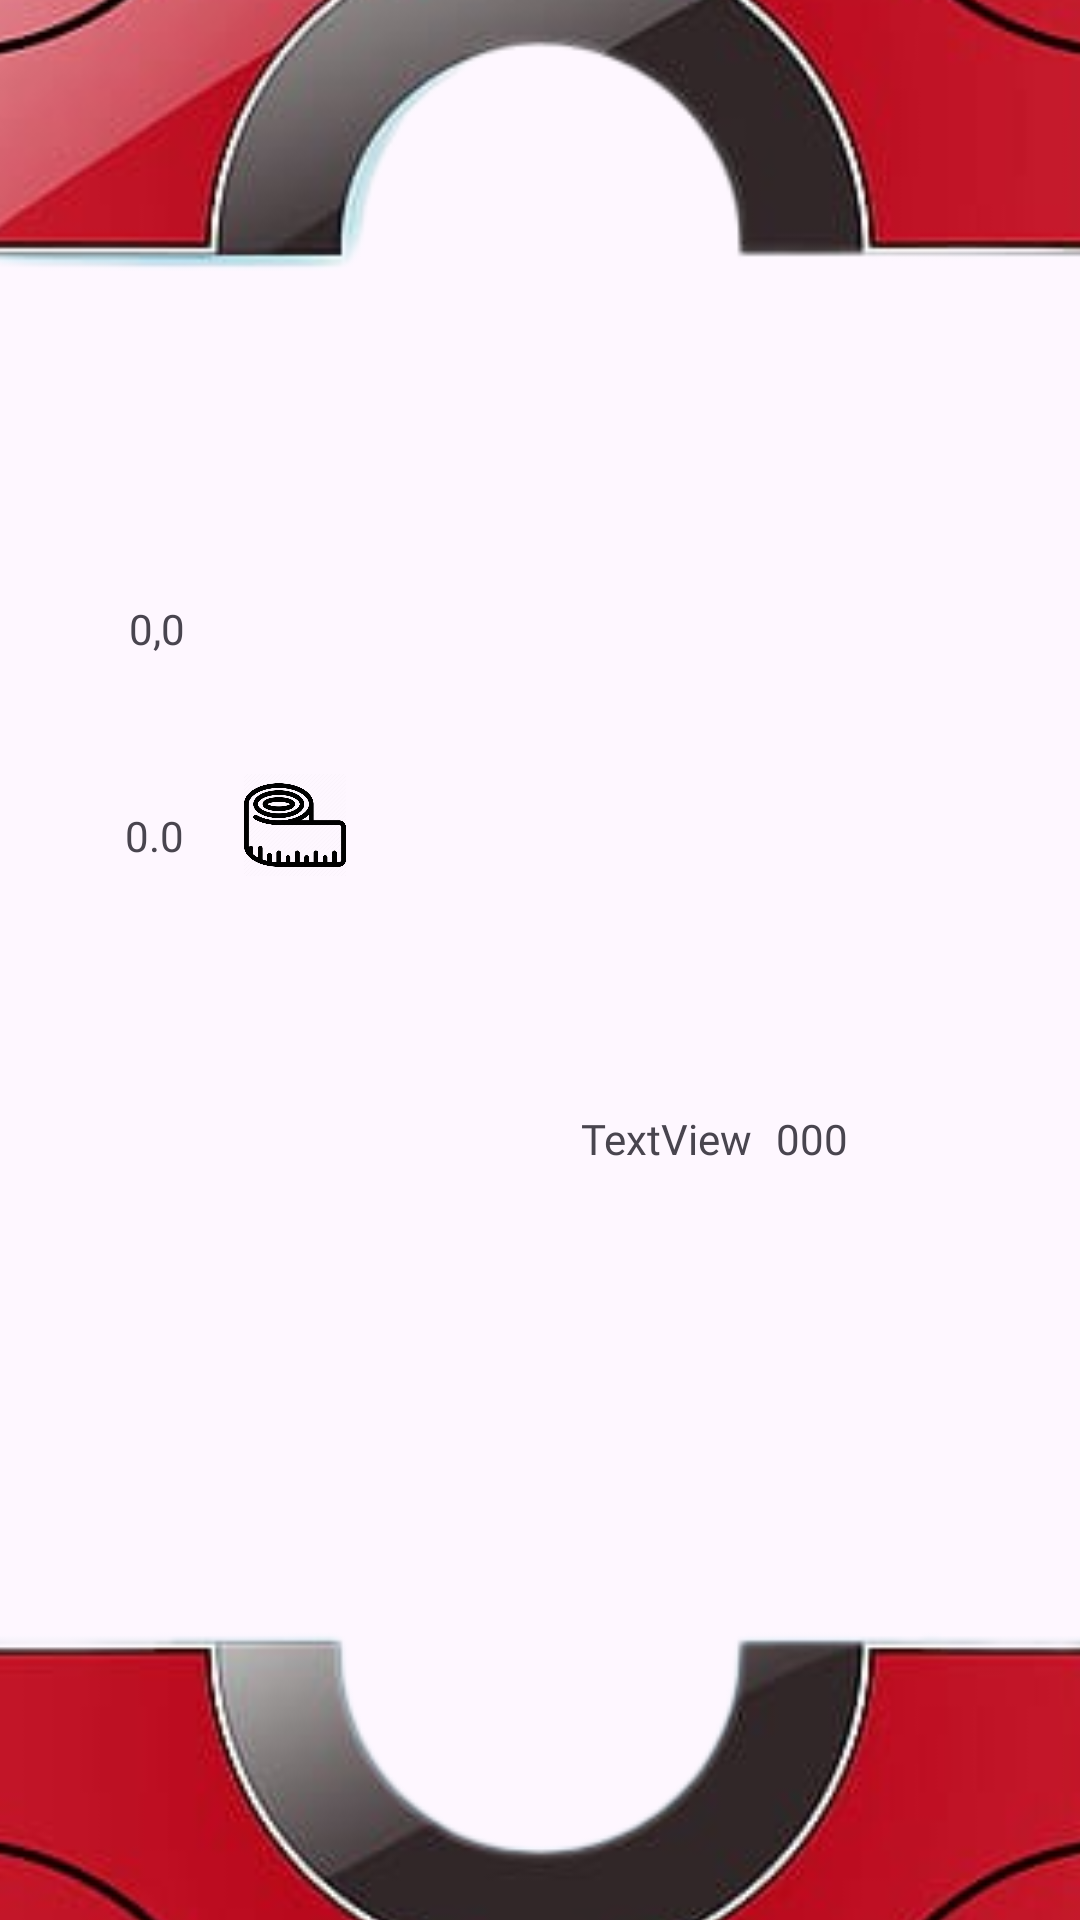

Icons on this 1080*1920 Android screen, each with its box as (x1, y1, x2, y2):
high pokemon: (244, 783, 346, 867)
